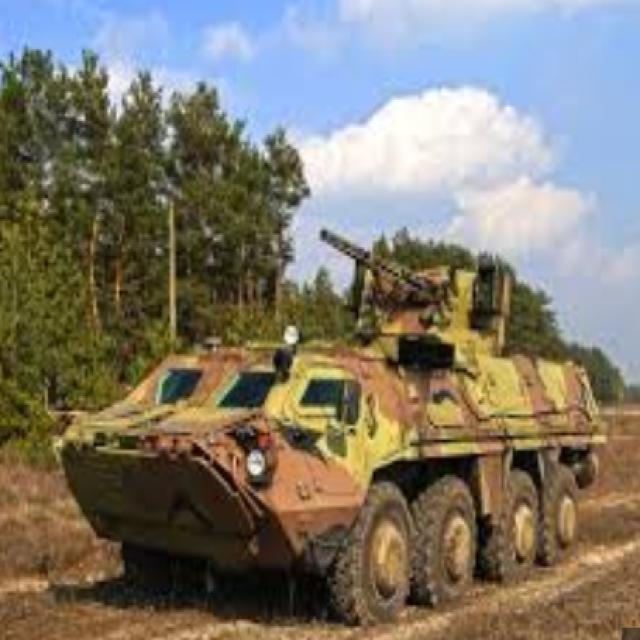MIL_APC: (62, 252, 625, 632)
